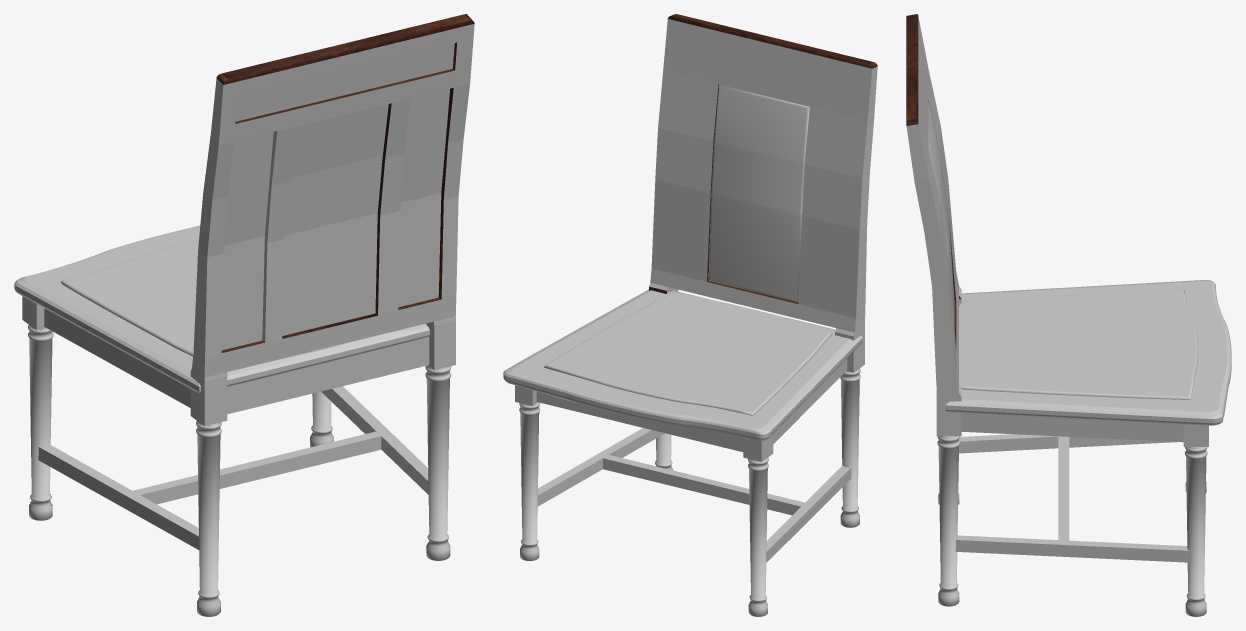
Rendered from cadeira_biblioteca.fbx.
The picture shows the model from 3 angles, left to right: view 1: azimuth 30°, elevation 25°; view 2: azimuth 150°, elevation 25°; view 3: azimuth 270°, elevation 25°; orthographic projection. The views are drawn at different scales.
Visible parts, largest first — view 1: cadeira bilioteca; view 2: cadeira bilioteca; view 3: cadeira bilioteca.
Part boxes in pixels (bbox=[...]): cadeira bilioteca: bbox=[14, 14, 474, 616]; cadeira bilioteca: bbox=[503, 14, 877, 616]; cadeira bilioteca: bbox=[906, 14, 1231, 616].
Bounding box in the file's own units: 394 × 648 × 392.
